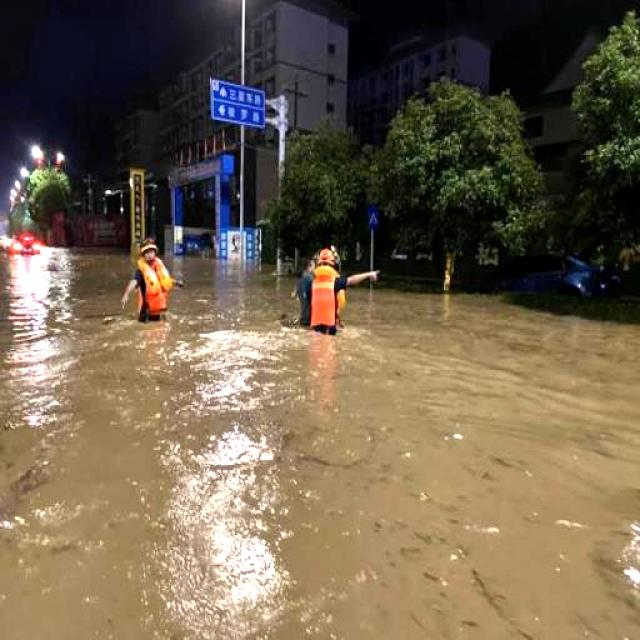civilian: (283, 241, 327, 332)
rescuer: (306, 232, 391, 352), (121, 233, 195, 343)
